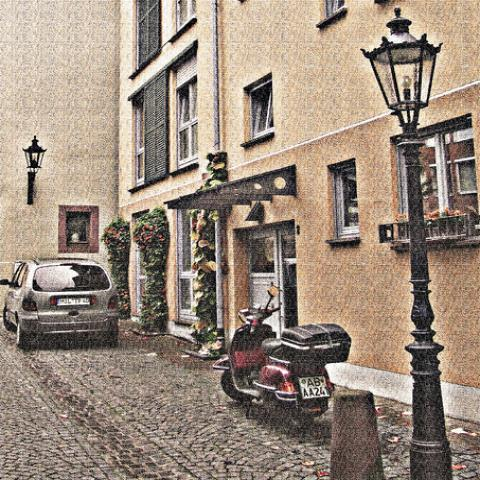car: (0, 257, 122, 349)
motorcycle: (211, 286, 350, 431)
